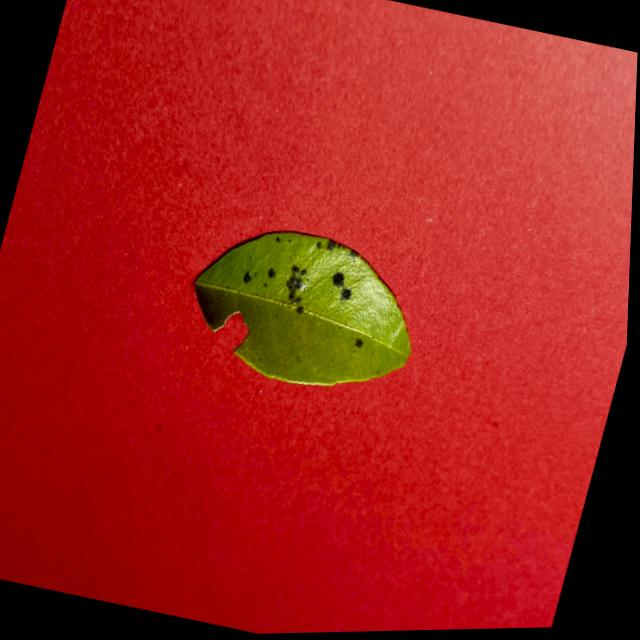sooty_mold: (194, 231, 409, 384)
